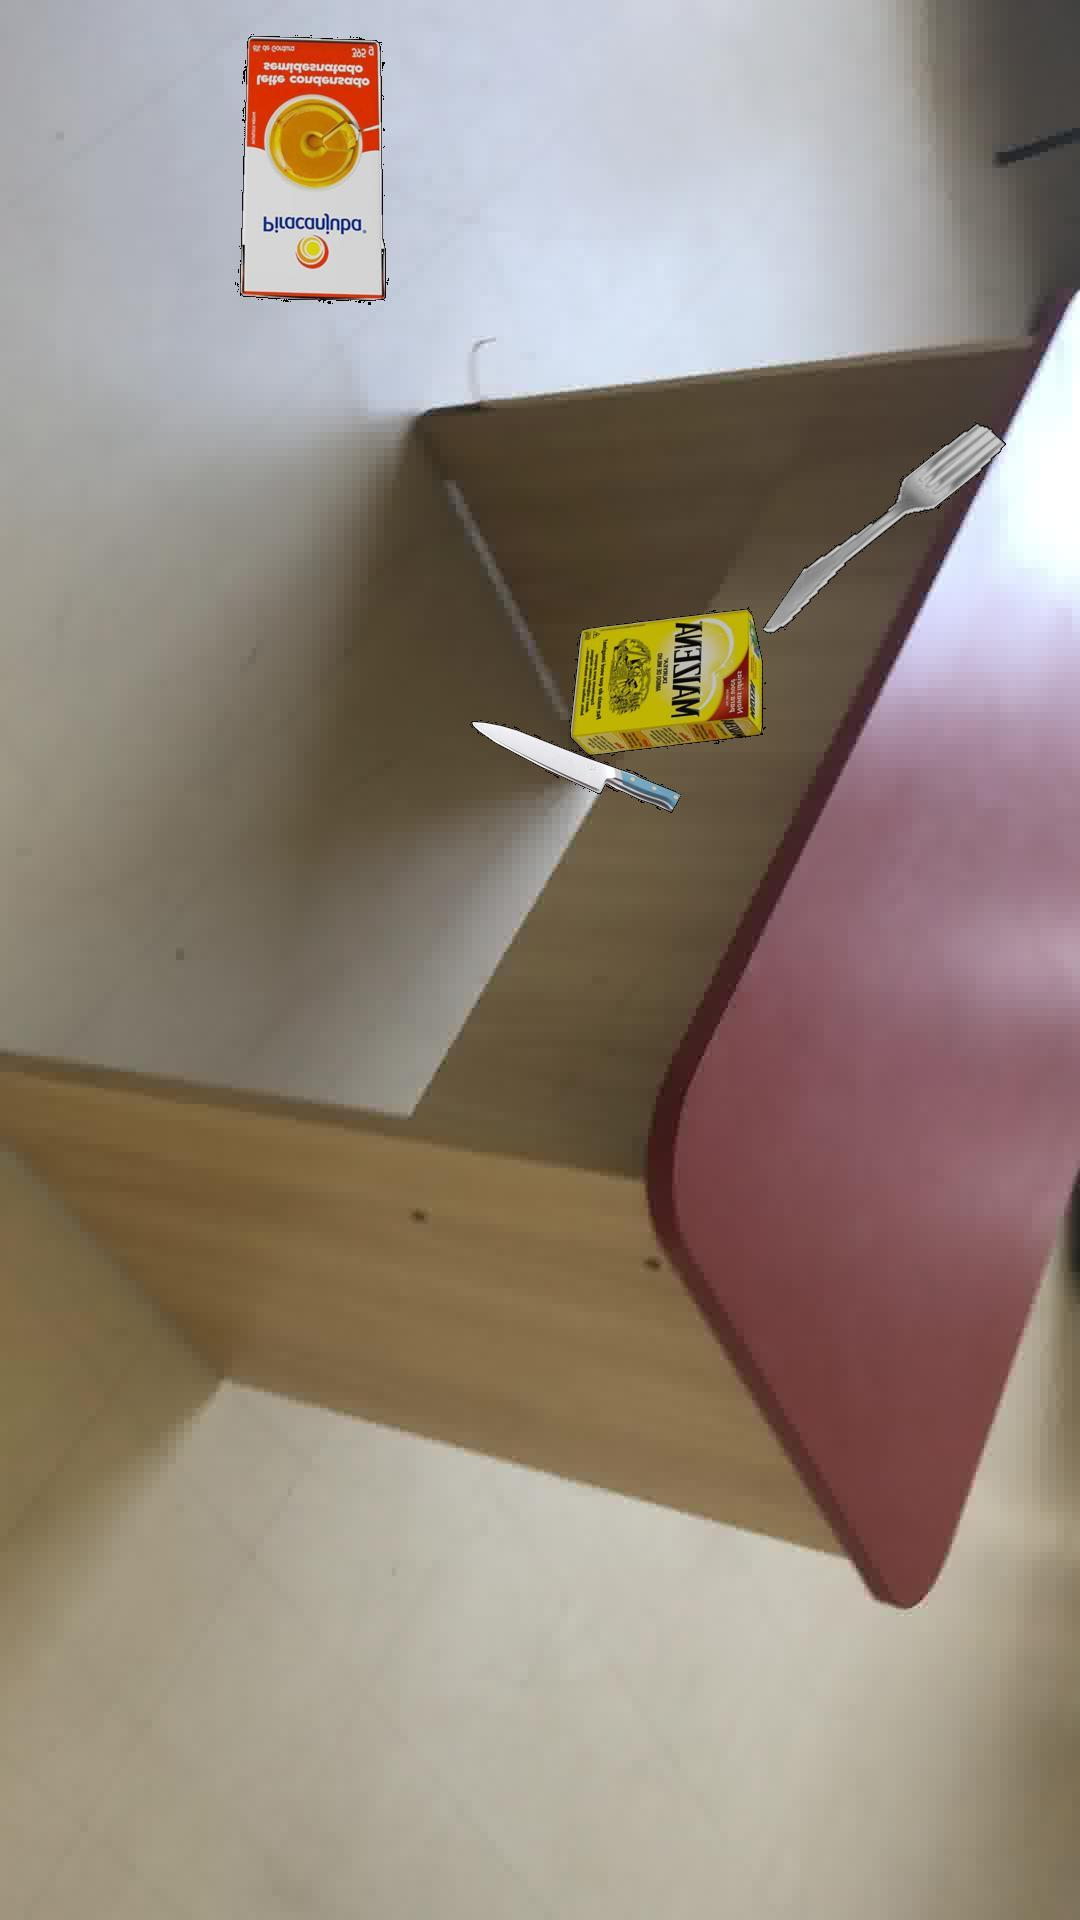fork: (761, 422, 1005, 633)
knife: (469, 720, 679, 811)
